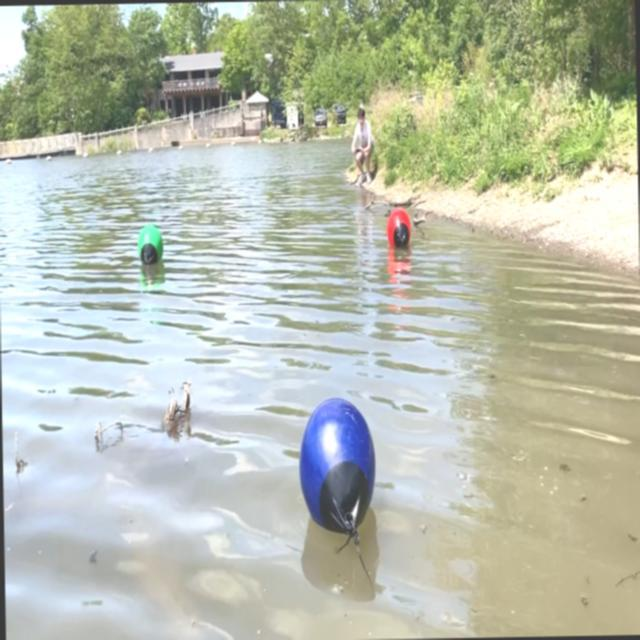buoy: (297, 396, 380, 534), (136, 218, 164, 265), (388, 204, 412, 247)
